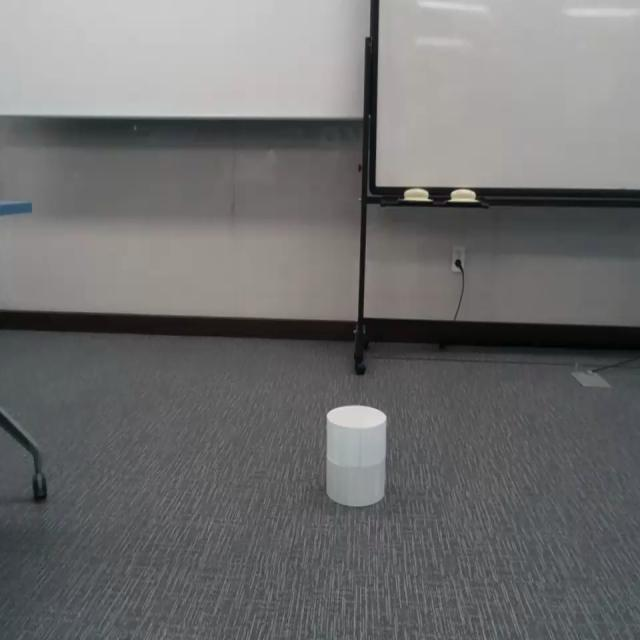cylinder: (325, 404, 388, 508)
